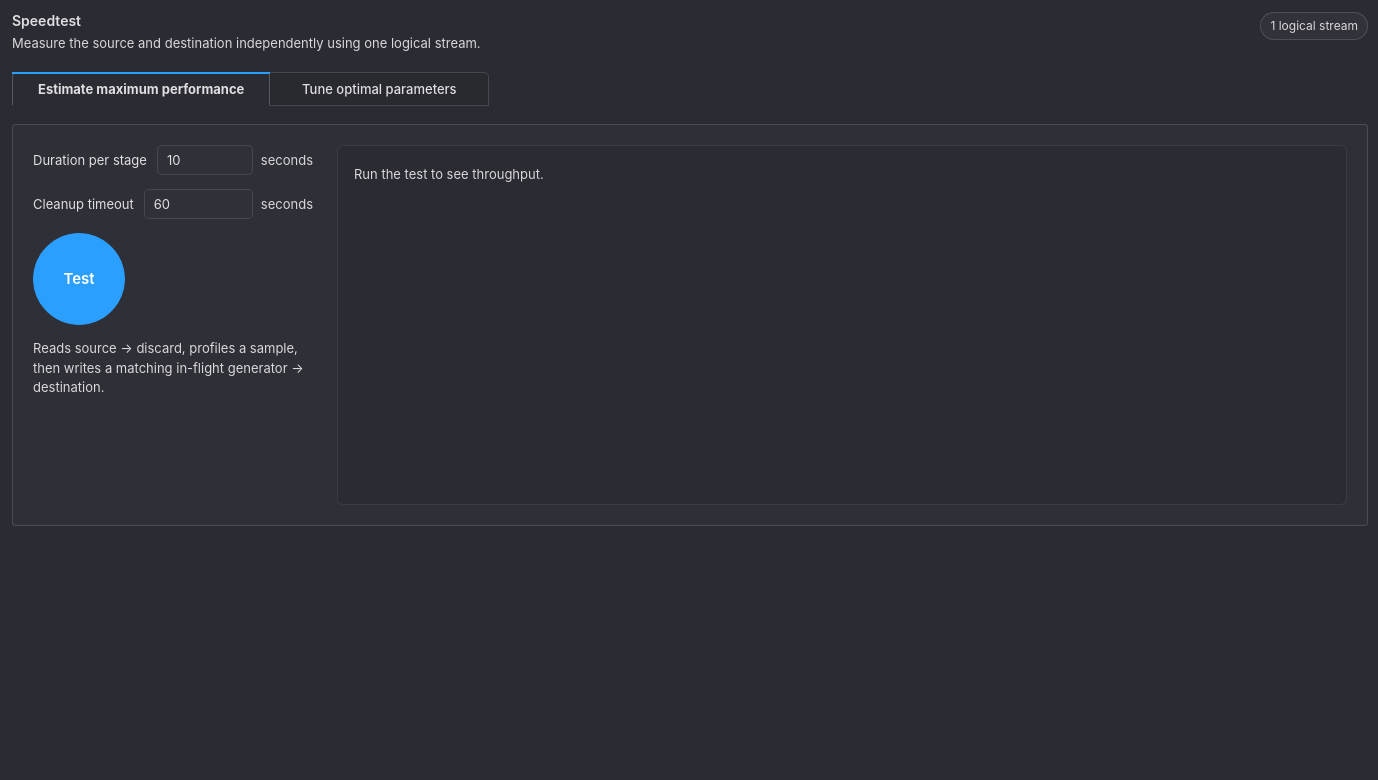
SpeedtestWorkspace › uses automatic tuning by default and renders both optimized parameter sets
The width and height of the screenshot is (1378, 780).
Click the tab "Tune optimal parameters" at (379, 89), box [269,72,489,106]
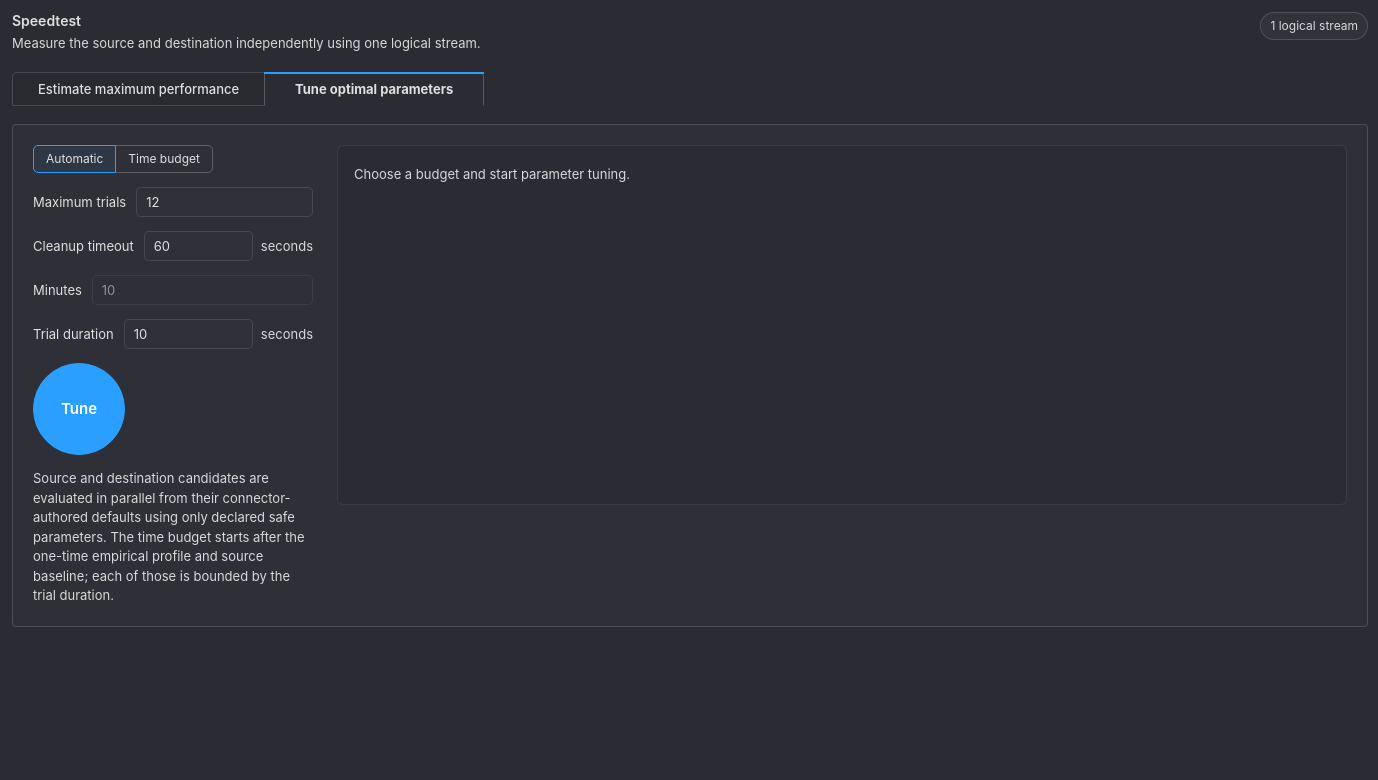
Click the button "Tune" at (79, 409), box [33,363,125,455]
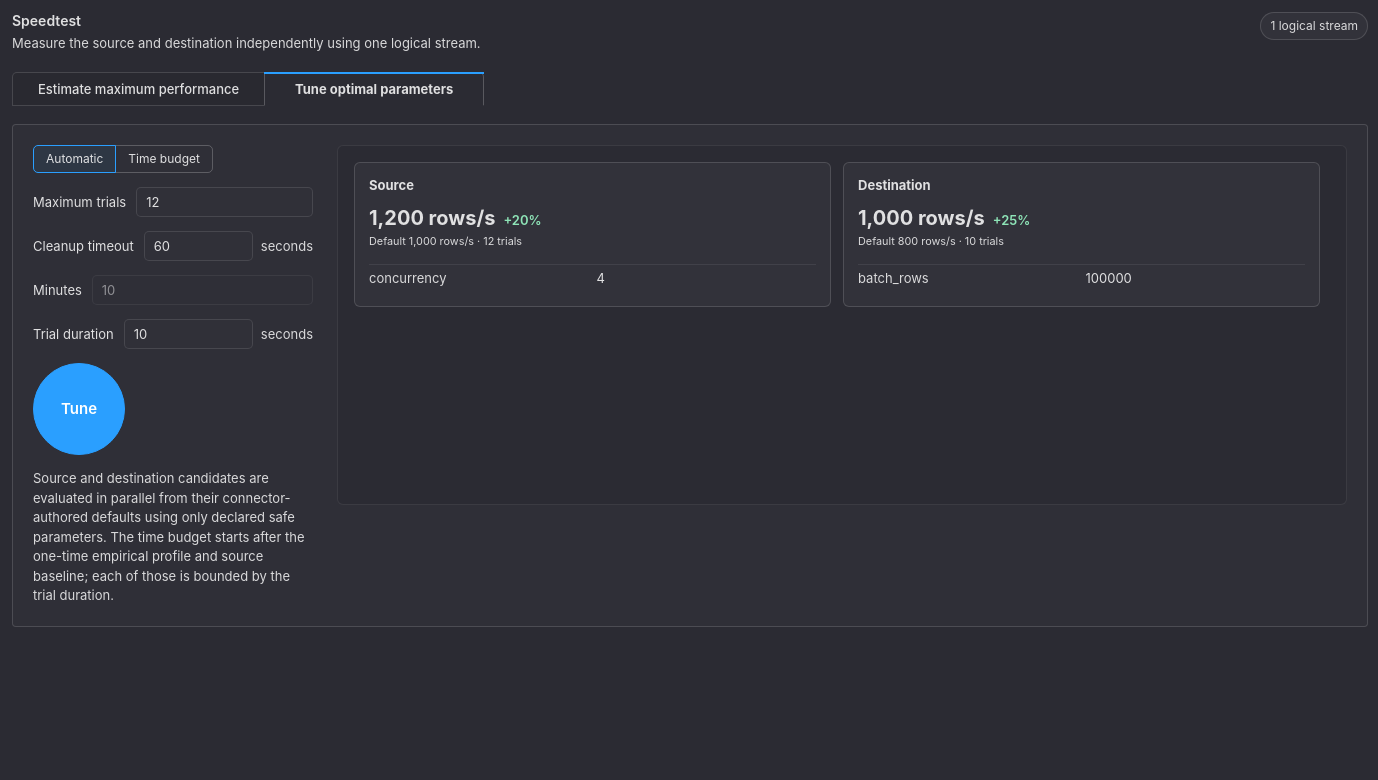
Check: the text "+20%" is shown, box [503,212,542,230]
Check: the text "+25%" is shown, box [993,212,1030,230]
Check: the text "concurrency" is shown, box [369,270,446,286]
